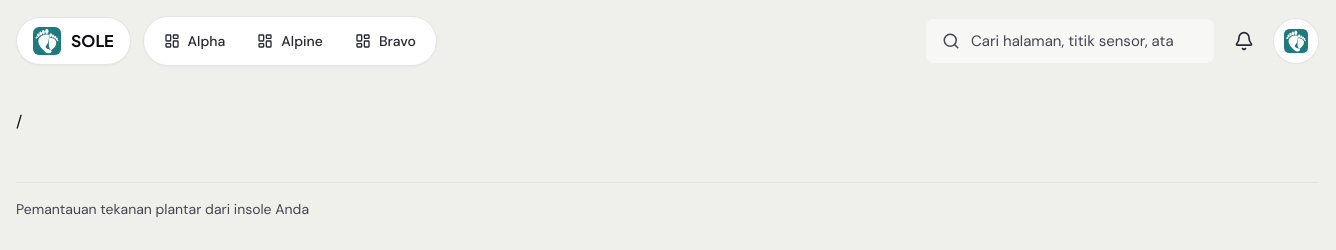
Test: SHELL-04: the search is a real control › closes when the pointer lands outside it
Type "alp" into the dropdown.
click(1070, 41); type("alp")  # box [926,19,1214,63]
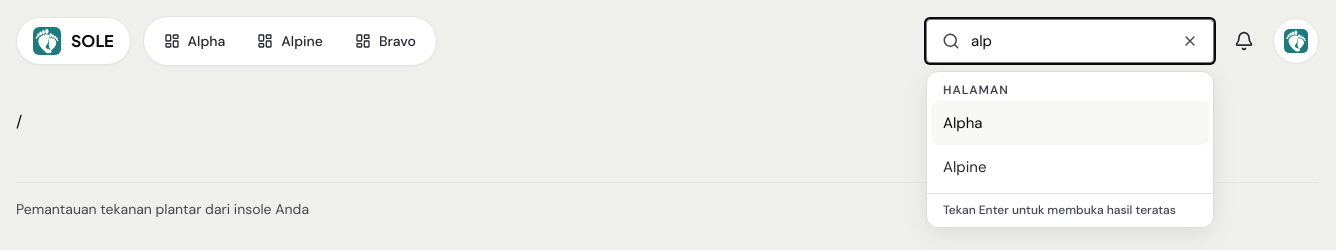
Expected: the list is shown, [927,72,1213,193]
Click the text with test id "route".
click(19, 122)  # box [16,111,22,132]
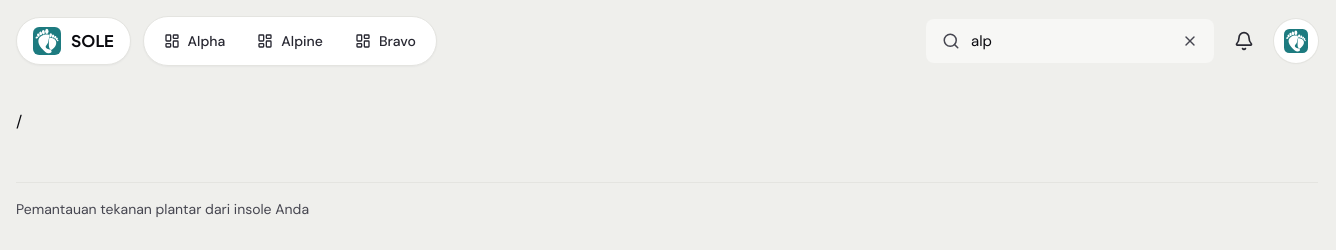
Expected: the list is gone
